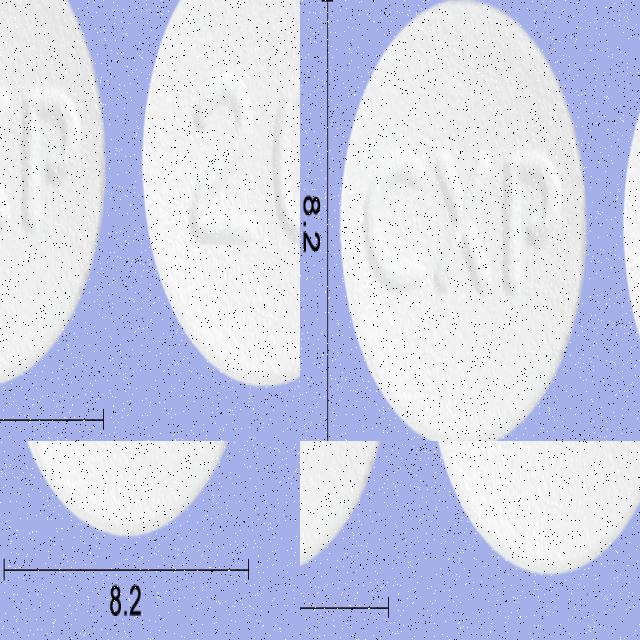Jecli: (340, 188, 635, 441)
Leflu: (166, 441, 300, 629)
Levotwo: (426, 441, 640, 574)
Sinil Ciprofloxacin HCl Tab: (0, 139, 149, 390), (130, 0, 300, 165)
